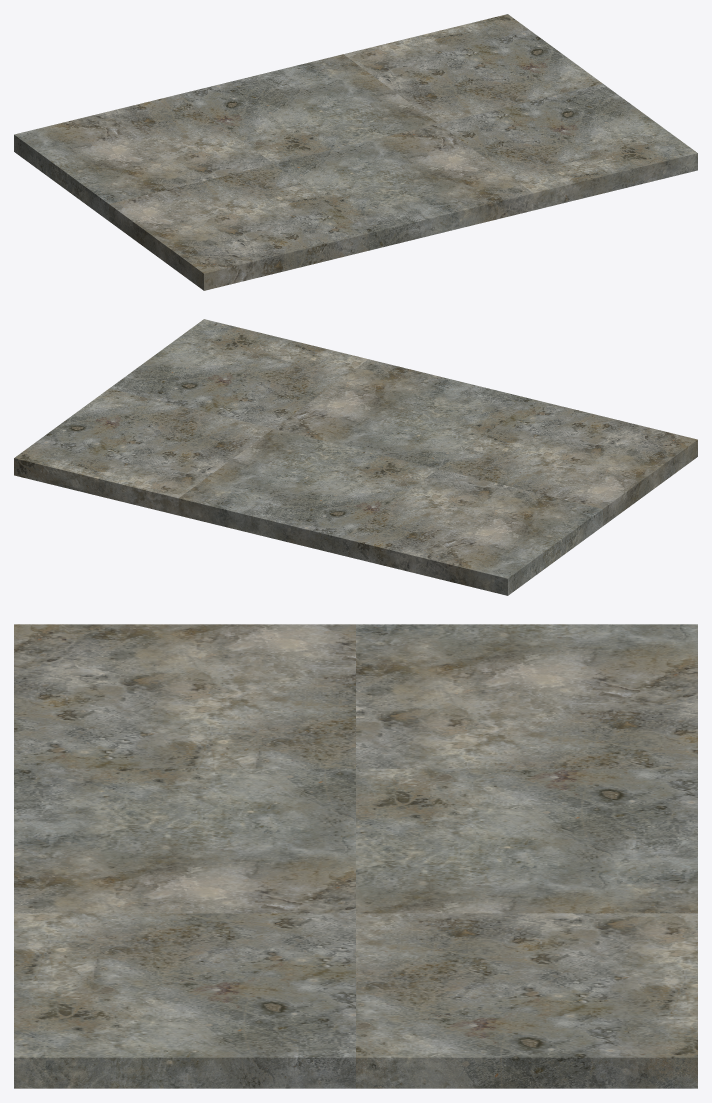
The model's file is Floor_2by3.fbx.
The picture shows the model from 3 angles, top to bottom: view 1: azimuth 30°, elevation 25°; view 2: azimuth 150°, elevation 25°; view 3: azimuth 270°, elevation 25°; orthographic projection. The views are drawn at different scales.
Visible parts, largest first — view 1: Floor_2by3; view 2: Floor_2by3; view 3: Floor_2by3.
Part boxes in pixels (x1,y1,x2,y2): Floor_2by3: (14, 14, 697, 290); Floor_2by3: (14, 319, 697, 595); Floor_2by3: (14, 624, 697, 1088).
Size of the model in its own units: 300 by 10 by 200.
